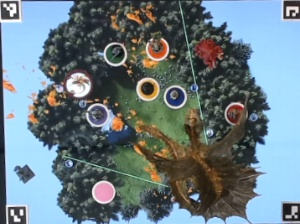blue: (162, 82, 188, 110)
green: (102, 39, 130, 68)
orange: (144, 34, 169, 60)
pink: (89, 177, 119, 204)
red: (222, 100, 249, 124)
violet: (81, 102, 112, 128)
yellow: (135, 74, 160, 101)
